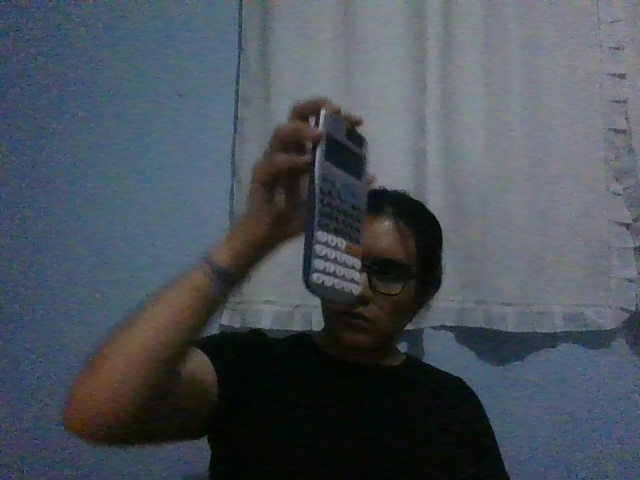calculadora: (303, 106, 368, 304)
